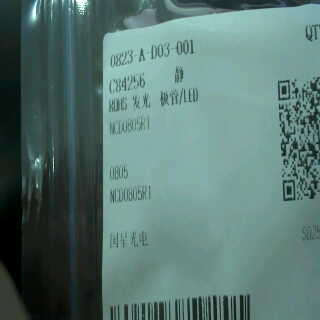LED: (133, 85, 200, 112)
